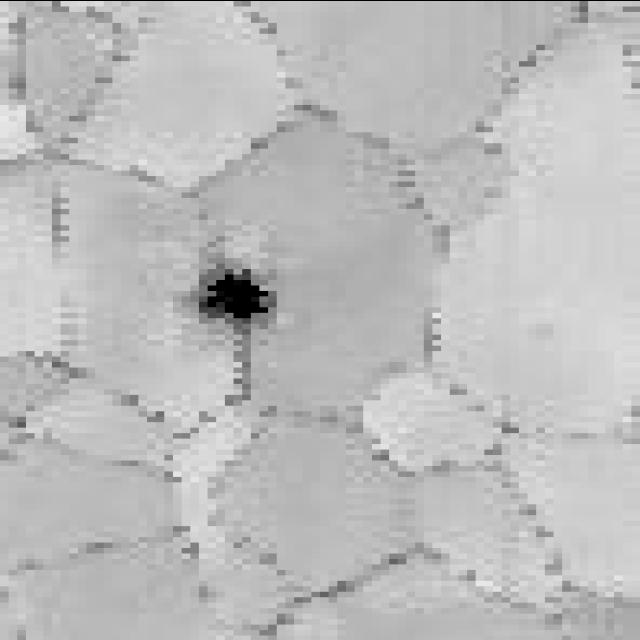good_void: (178, 259, 290, 330)
